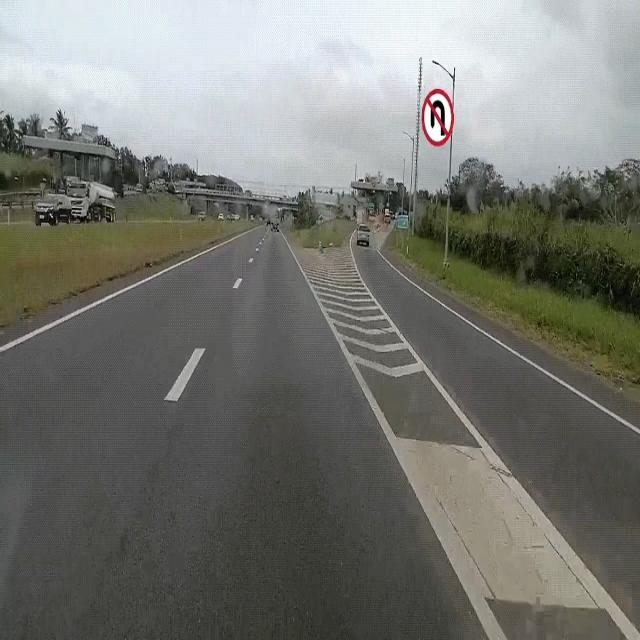Demi-Tour-Interdit: (418, 85, 458, 151)
